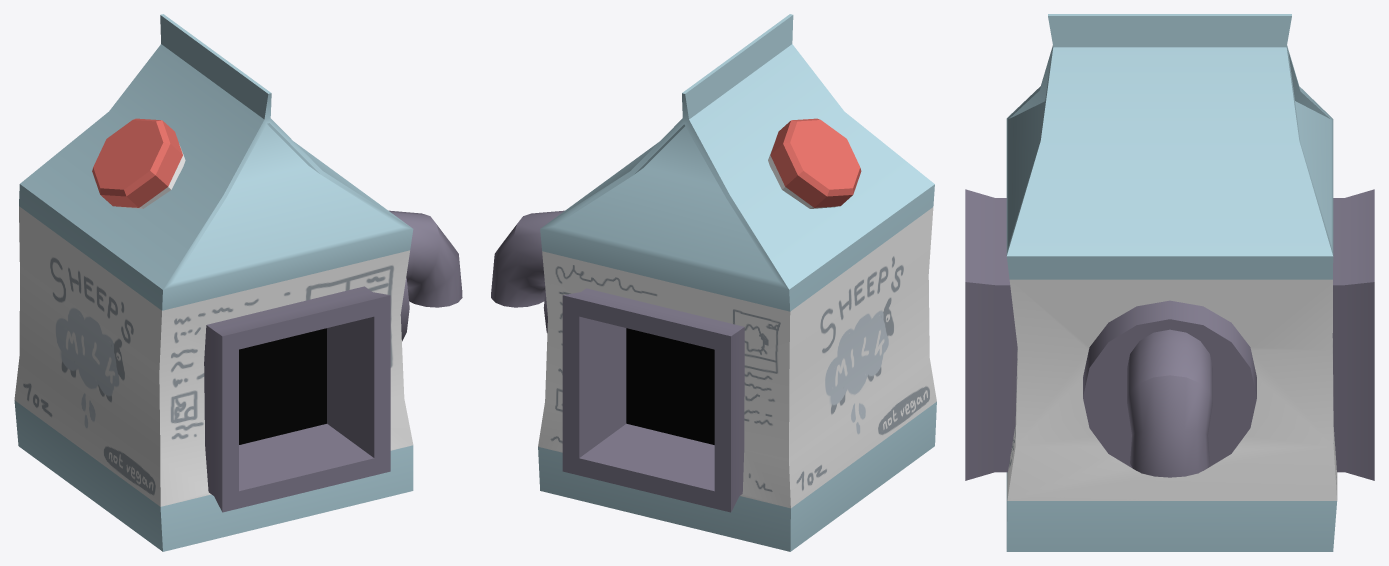
File: milking_machine.fbx
The picture shows the model from 3 angles, left to right: view 1: azimuth 30°, elevation 25°; view 2: azimuth 150°, elevation 25°; view 3: azimuth 270°, elevation 25°; orthographic projection. The views are drawn at different scales.
Parts seen in each view (by area): view 1: Cube.003; view 2: Cube.003; view 3: Cube.003.
Boxes of the visible parts, left/top/right/bottom form: Cube.003: left=14, top=14, right=462, bottom=551; Cube.003: left=491, top=14, right=936, bottom=551; Cube.003: left=965, top=14, right=1374, bottom=551.
Bounding box in the file's own units: 217 × 233 × 185.
